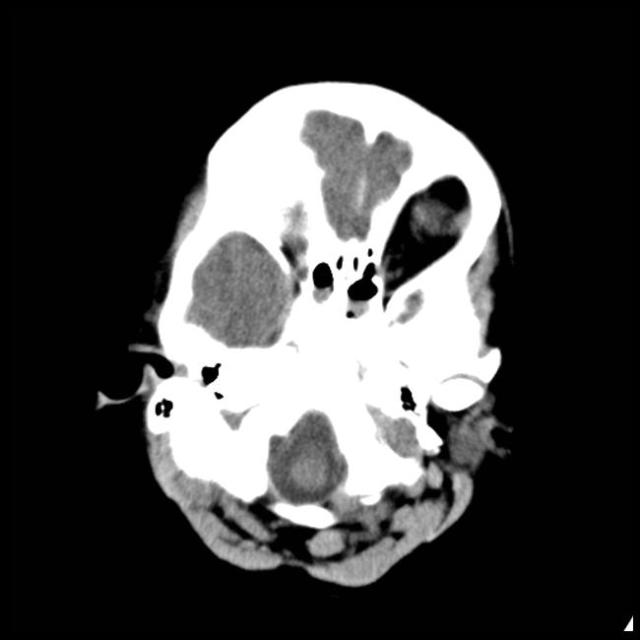lesion: (95, 77, 522, 589)
